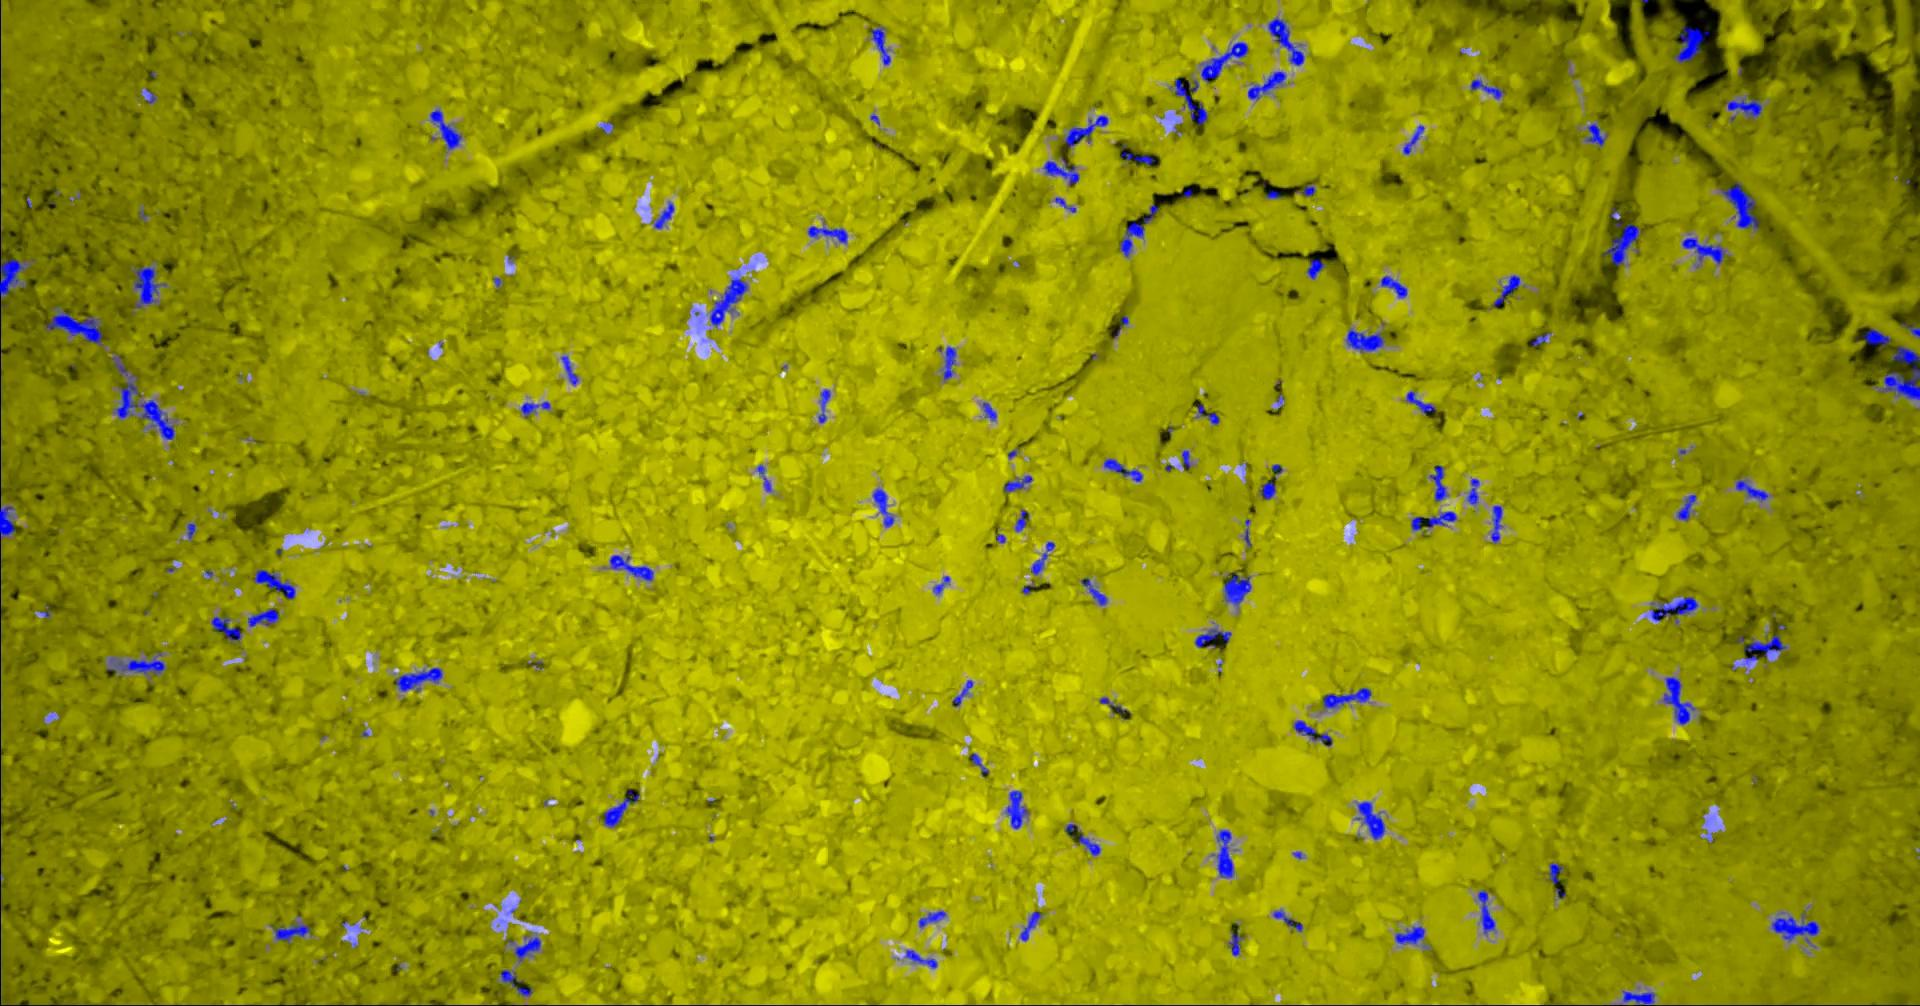ant: (116, 373, 177, 439), (1, 230, 27, 320), (1879, 345, 1920, 399), (47, 306, 103, 344), (711, 276, 749, 326), (1203, 41, 1250, 81), (1605, 213, 1641, 265), (1269, 17, 1305, 65), (1723, 180, 1760, 229), (1172, 77, 1209, 124), (1663, 676, 1697, 724), (1773, 912, 1820, 942), (135, 265, 168, 307), (1065, 116, 1109, 147), (1675, 25, 1710, 62), (430, 109, 463, 149), (255, 569, 297, 600), (604, 790, 640, 826), (1745, 635, 1788, 663), (396, 667, 444, 691), (107, 655, 168, 674), (1652, 596, 1699, 620), (611, 555, 655, 580), (1356, 801, 1385, 840), (1213, 829, 1236, 878), (1683, 238, 1726, 263), (1250, 71, 1288, 99), (1324, 687, 1373, 708), (1295, 720, 1333, 746), (1045, 156, 1079, 184), (1347, 328, 1385, 352), (1105, 459, 1144, 481), (1493, 274, 1521, 306), (1225, 573, 1253, 605), (1121, 221, 1145, 257), (874, 488, 895, 527), (1007, 790, 1029, 828), (502, 969, 533, 995), (1032, 541, 1057, 574), (1123, 144, 1158, 165), (1196, 627, 1233, 648), (1082, 577, 1109, 605), (213, 616, 243, 641), (1479, 889, 1496, 934), (872, 25, 891, 64), (809, 225, 850, 243), (516, 935, 542, 962), (274, 923, 311, 942), (1728, 98, 1763, 118), (1737, 479, 1769, 500), (1408, 391, 1437, 414), (1101, 697, 1131, 719), (1274, 909, 1304, 931), (1021, 909, 1043, 940), (1472, 79, 1506, 98), (1431, 465, 1449, 500), (1404, 124, 1426, 154), (905, 949, 938, 968), (940, 345, 957, 380), (1382, 276, 1408, 297), (249, 608, 281, 626), (954, 680, 974, 706), (655, 202, 676, 227), (1677, 494, 1698, 520), (1865, 328, 1892, 347), (563, 354, 579, 385), (1427, 511, 1458, 527), (1396, 926, 1426, 942), (919, 909, 947, 927), (1197, 404, 1222, 424), (1624, 989, 1656, 1005), (1587, 123, 1608, 146), (1, 506, 17, 536), (1079, 835, 1102, 855), (1004, 475, 1032, 492), (522, 401, 551, 417), (971, 753, 990, 776), (1492, 506, 1503, 542), (819, 389, 832, 422), (758, 465, 773, 492), (1230, 929, 1244, 955), (1308, 258, 1326, 278), (113, 354, 130, 375), (1144, 205, 1161, 224), (935, 575, 951, 594), (1057, 197, 1077, 212), (1469, 478, 1481, 504), (1016, 509, 1030, 531), (1550, 862, 1564, 883), (1262, 481, 1277, 499), (1533, 332, 1552, 345), (984, 401, 998, 420), (1902, 323, 1920, 337), (1413, 516, 1425, 530), (1183, 450, 1191, 469)
